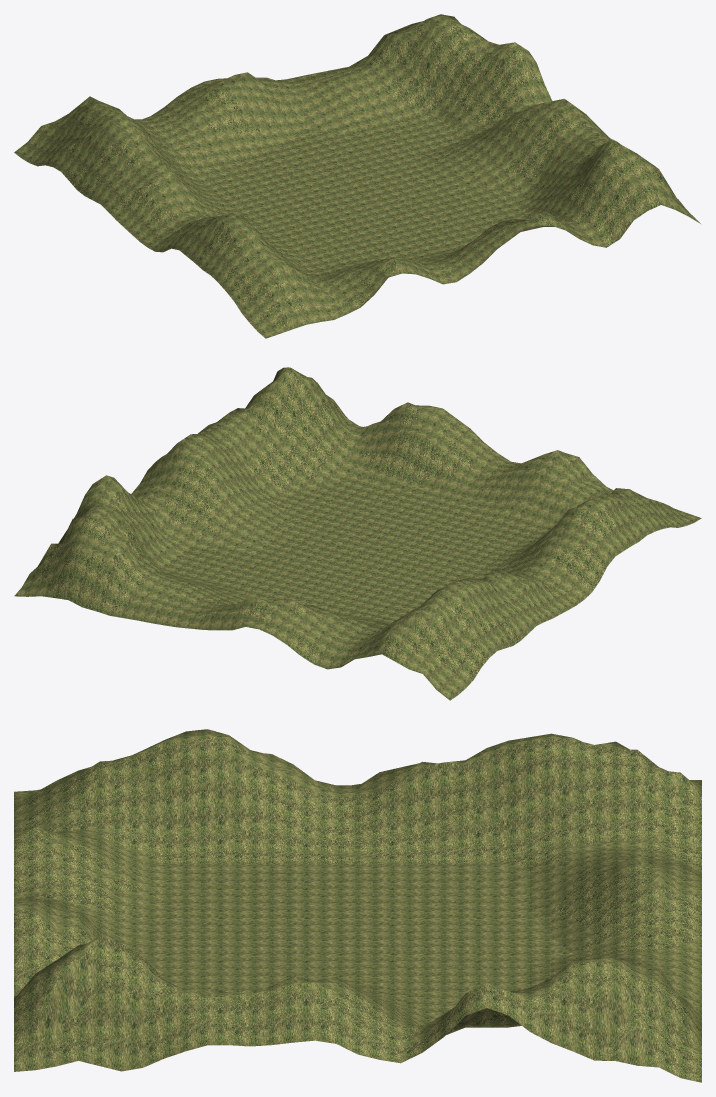
3 renders of one model, top to bottom at view 1: azimuth 30°, elevation 25°; view 2: azimuth 150°, elevation 25°; view 3: azimuth 270°, elevation 25°, orthographic. The views are drawn at different scales.
Visible parts, largest first — view 1: Mesh; view 2: Mesh; view 3: Mesh.
Part boxes in pixels (box(x1,y1,x2,y2)): Mesh: box(14, 14, 700, 338); Mesh: box(14, 367, 701, 700); Mesh: box(14, 729, 701, 1082).
Bounding box in the file's own units: 100 × 17.78 × 100.
Materials: 1 (1 with a texture image).
